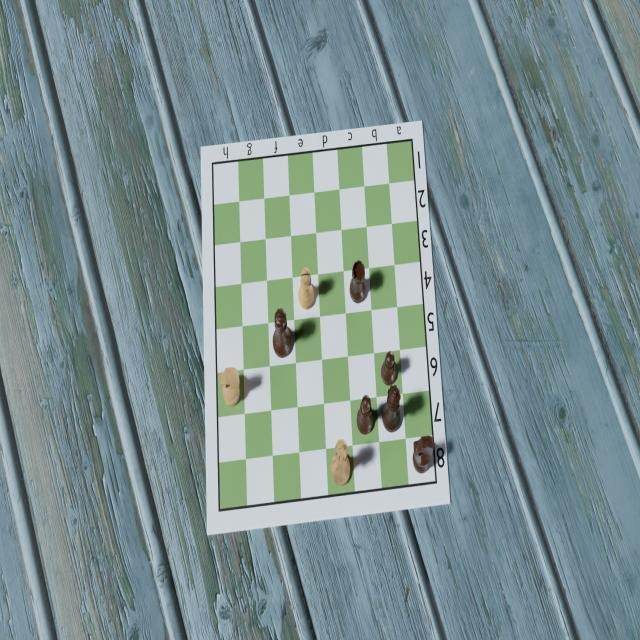black-bishop: (356, 393, 376, 435)
black-king: (270, 305, 293, 359), (383, 381, 403, 435)
black-knight: (413, 433, 435, 475)
black-pawn: (380, 350, 399, 387)
black-rook: (350, 258, 369, 305)
white-bishop: (298, 264, 318, 312)
white-king: (332, 436, 352, 488)
white-knight: (218, 362, 242, 410)
